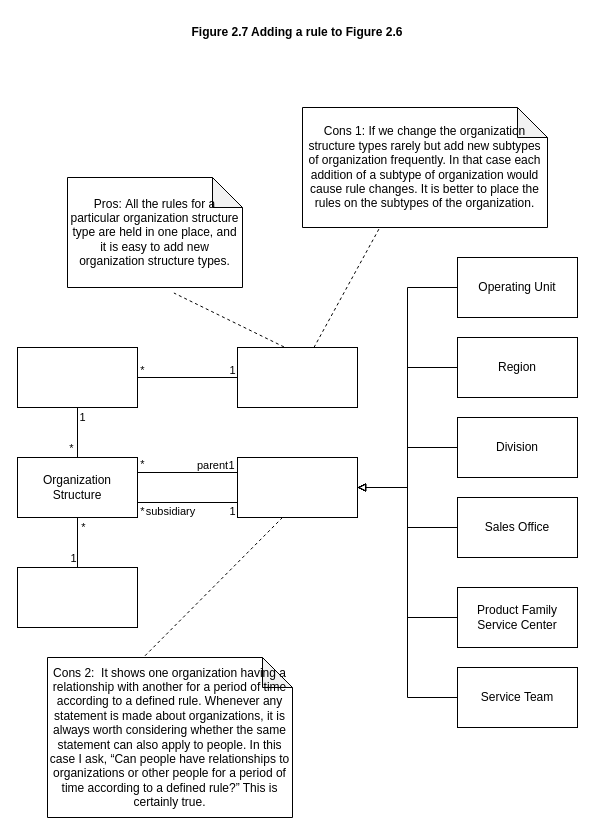
Some shapes in this 595 by 835 pixel diagram are drawn without their labels. Here are the shapes that lost their labels. From the top down, the box of each, then its label:
(16, 346, 138, 408): Organization Structure Type
(236, 346, 358, 408): Rule
(236, 456, 358, 518): Organization
(16, 566, 138, 628): Time Period
